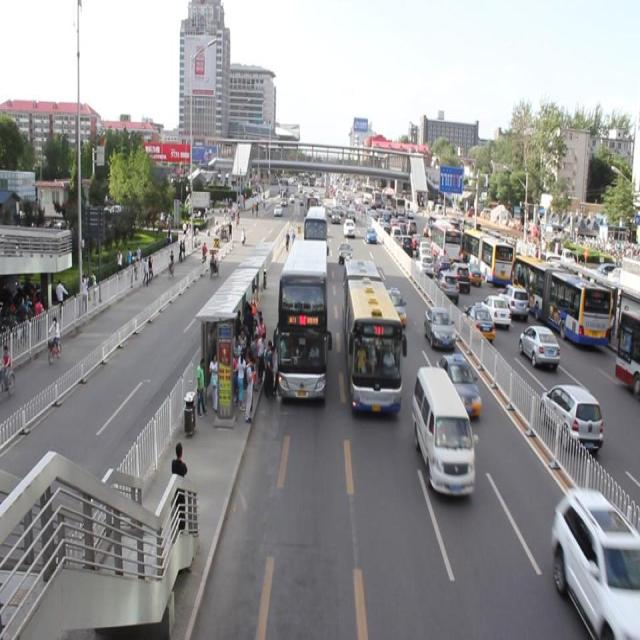car: (554, 484, 640, 632), (436, 353, 478, 421), (424, 308, 453, 349), (382, 286, 406, 326), (337, 241, 352, 264), (329, 206, 342, 226), (342, 217, 354, 237), (365, 226, 376, 245), (346, 208, 355, 220)
truck: (413, 364, 474, 498)
van: (342, 257, 400, 418), (280, 239, 326, 399), (304, 204, 326, 262)
